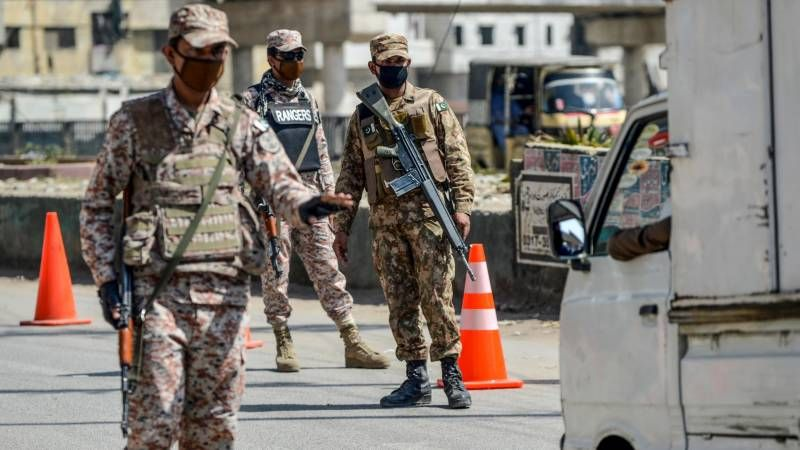gun: (361, 86, 475, 284), (104, 190, 139, 389), (248, 163, 290, 282)
uniform: (94, 80, 262, 442), (225, 64, 389, 372), (319, 73, 469, 393)
